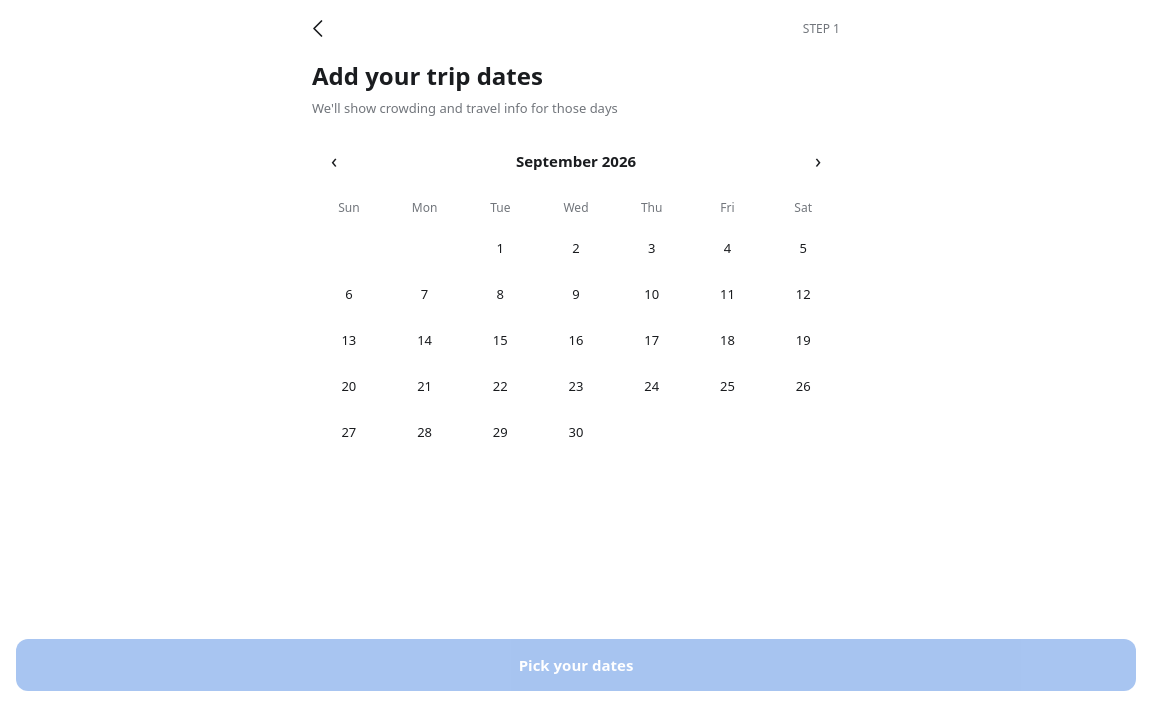
Test: FE-102-T5 recommendation preview non-ready states › does not offer a retry for a non-retryable 500
What coordinates should you click on to do the following:
click the button "1"
I would click on:
 (500, 248)
Its box is [463,226,537,270].
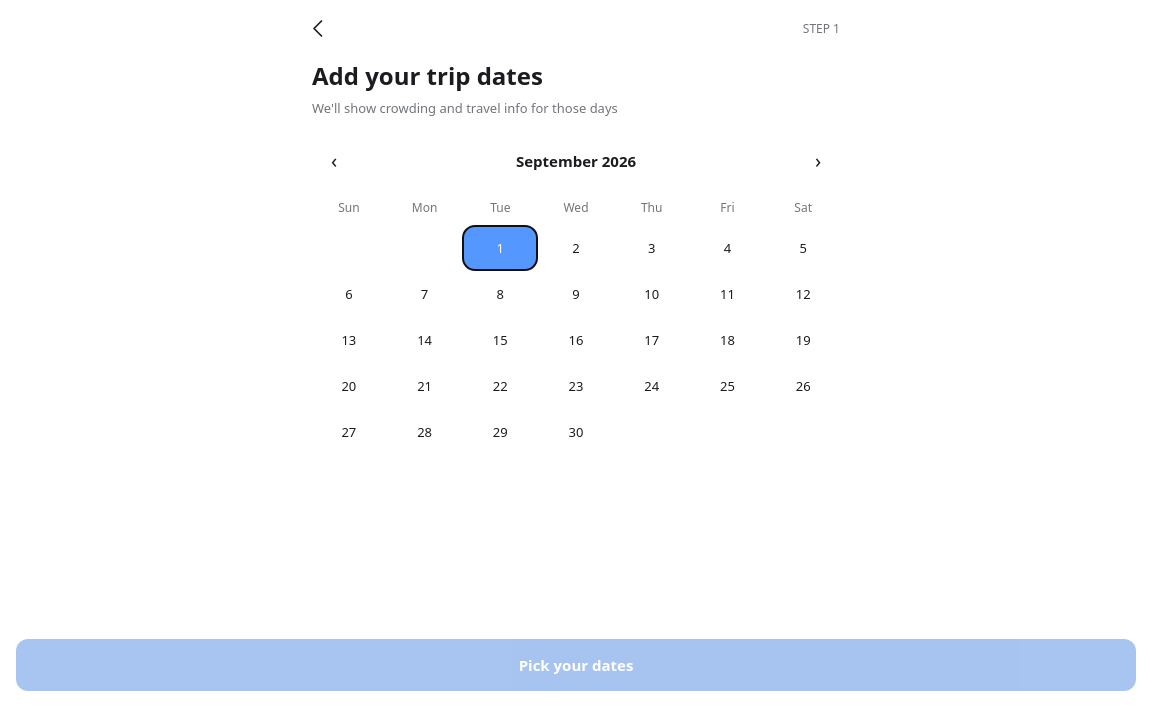
What coordinates should you click on to do the following:
click the button "4"
I would click on:
 (727, 248)
Its box is [691,226,764,270].
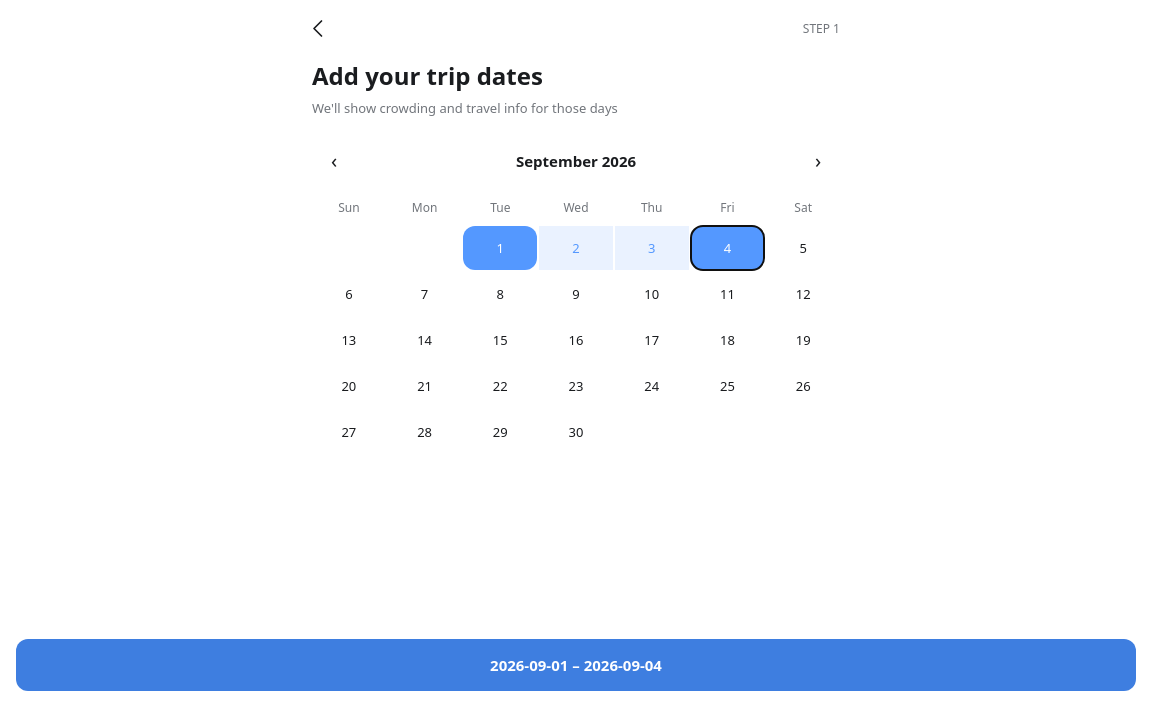
What coordinates should you click on to do the following:
click the button "2026-09-01 – 2026-09-04"
I would click on:
 (576, 665)
Its box is [16,639,1136,691].
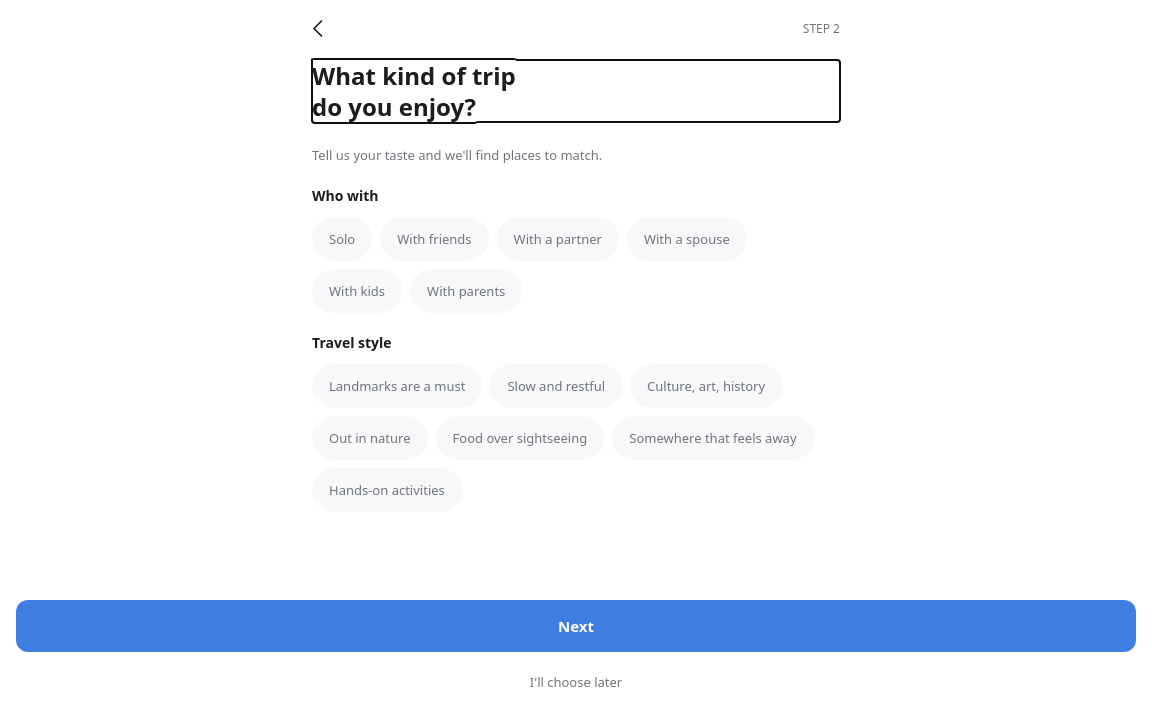
What coordinates should you click on to do the following:
click the button "Next"
I would click on:
 (576, 626)
Its box is [16,600,1136,652].
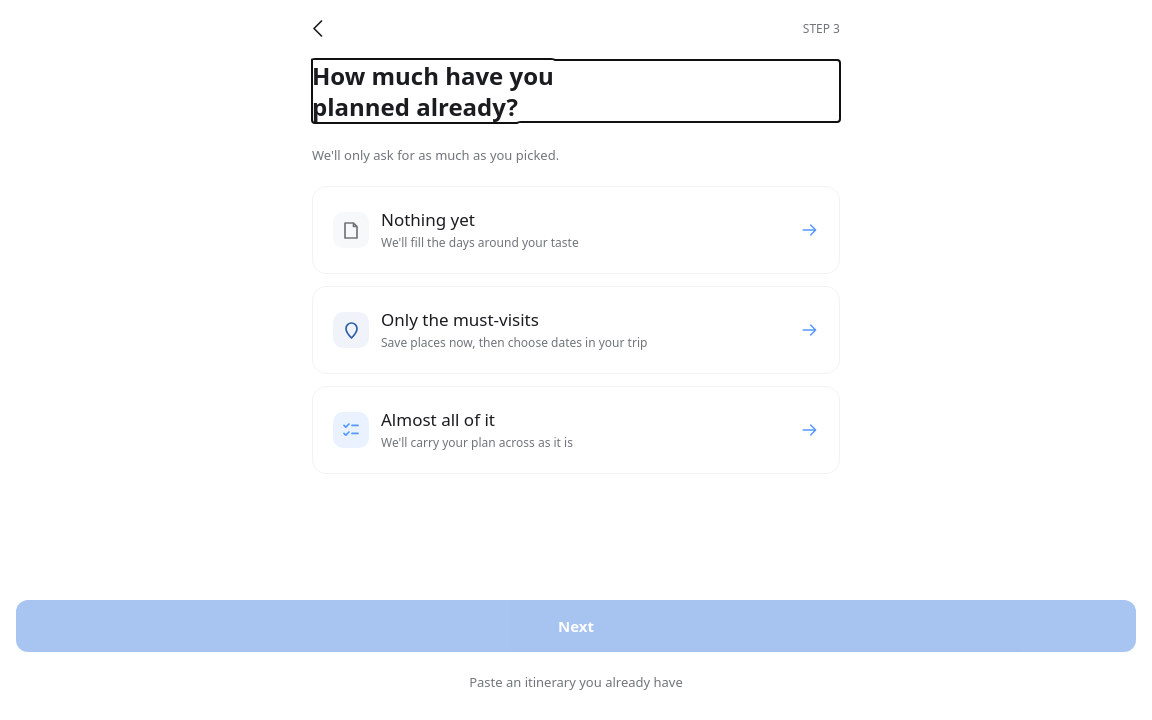
What coordinates should you click on to do the following:
click the button "Nothing yet We'll fill the days around your taste"
I would click on:
 (351, 230)
Its box is [312,186,840,274].
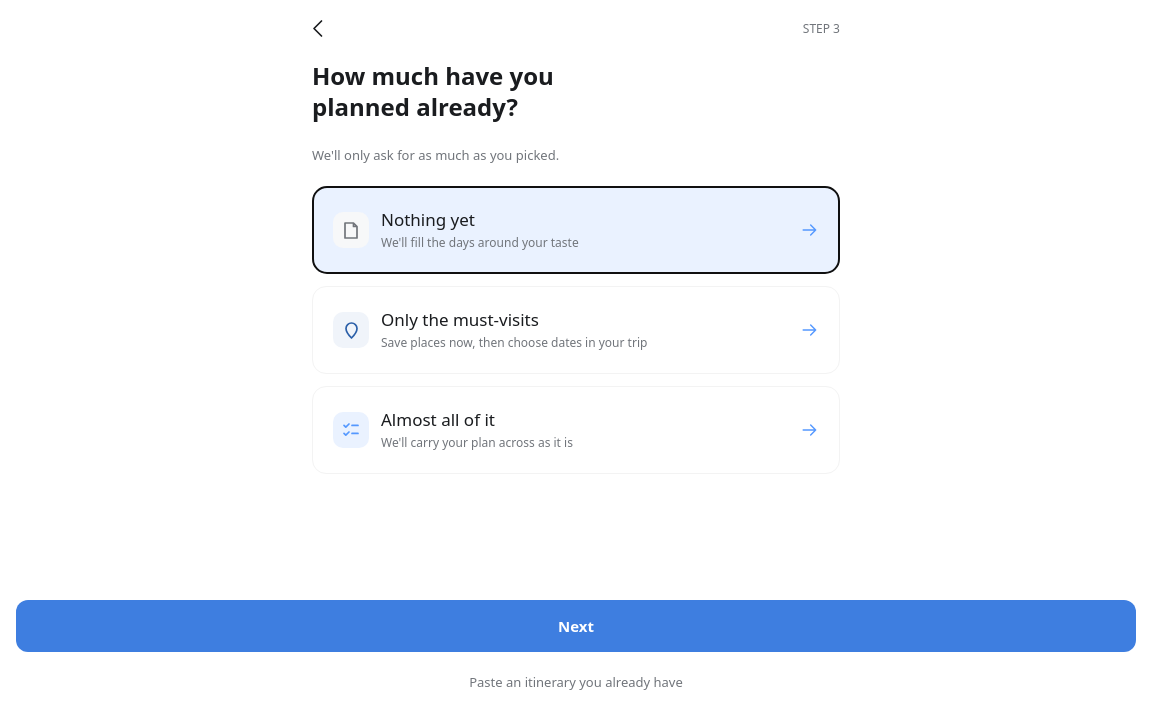
What coordinates should you click on to do the following:
click the button "Next"
I would click on:
 (576, 626)
Its box is [16,600,1136,652].
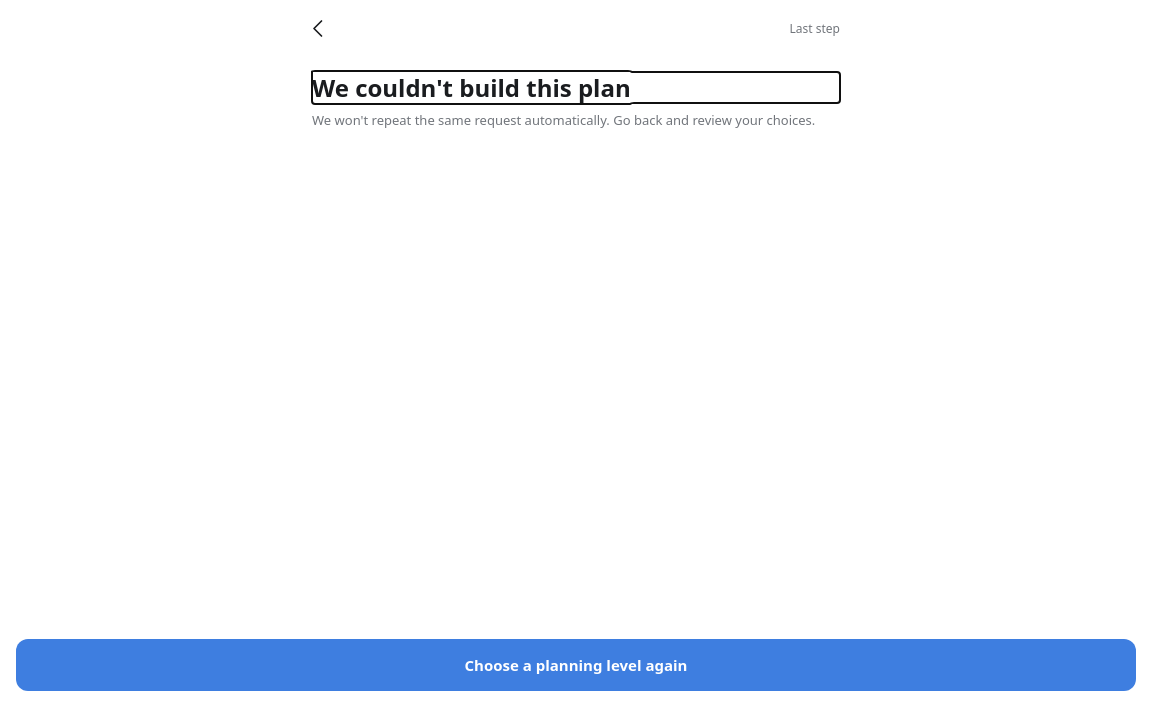
Expected: the heading "We couldn't build this plan" is shown, [312,71,631,104]
